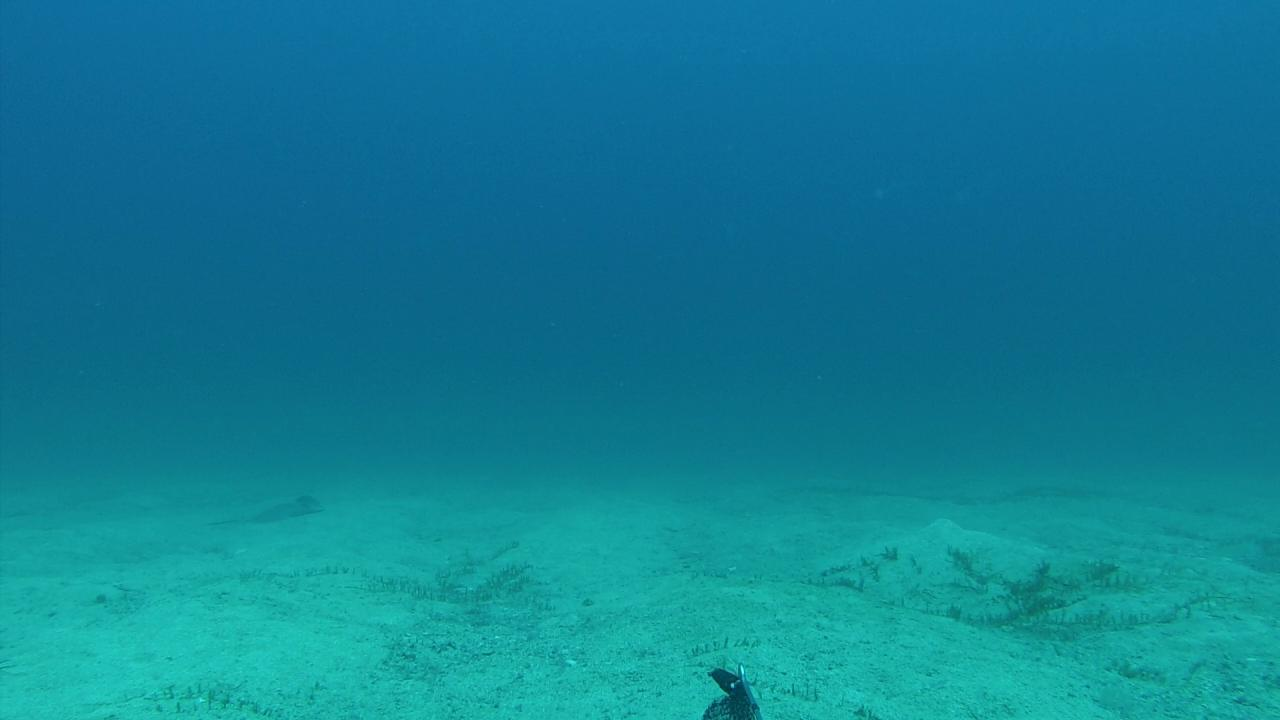dasyatis: (196, 493, 328, 527)
